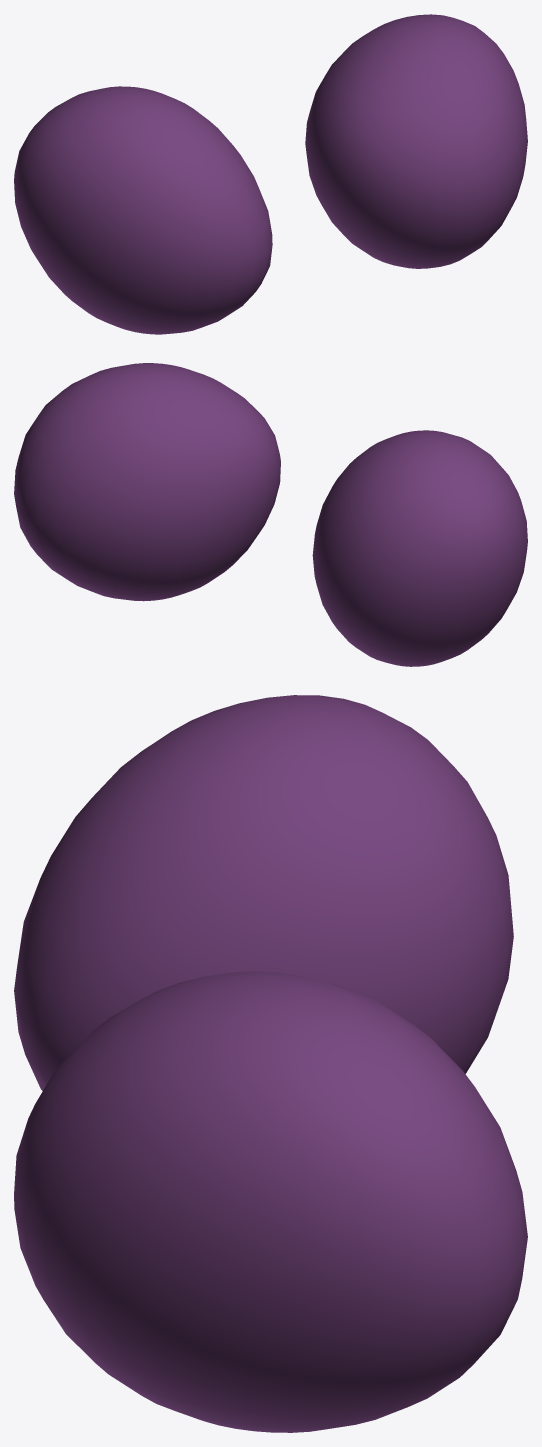
File: yeux poulpe.fbx
3 renders of one model, top to bottom at view 1: azimuth 30°, elevation 25°; view 2: azimuth 150°, elevation 25°; view 3: azimuth 270°, elevation 25°, orthographic. The views are drawn at different scales.
Parts seen in each view (by area): view 1: yeux.001; view 2: yeux.001; view 3: yeux.001.
Part boxes in pixels (box(x1,y1,x2,y2)): yeux.001: box(14, 14, 527, 334); yeux.001: box(14, 363, 527, 666); yeux.001: box(14, 695, 527, 1432).
Size of the model in its own units: 1.1 by 0.4895 by 0.5266.
